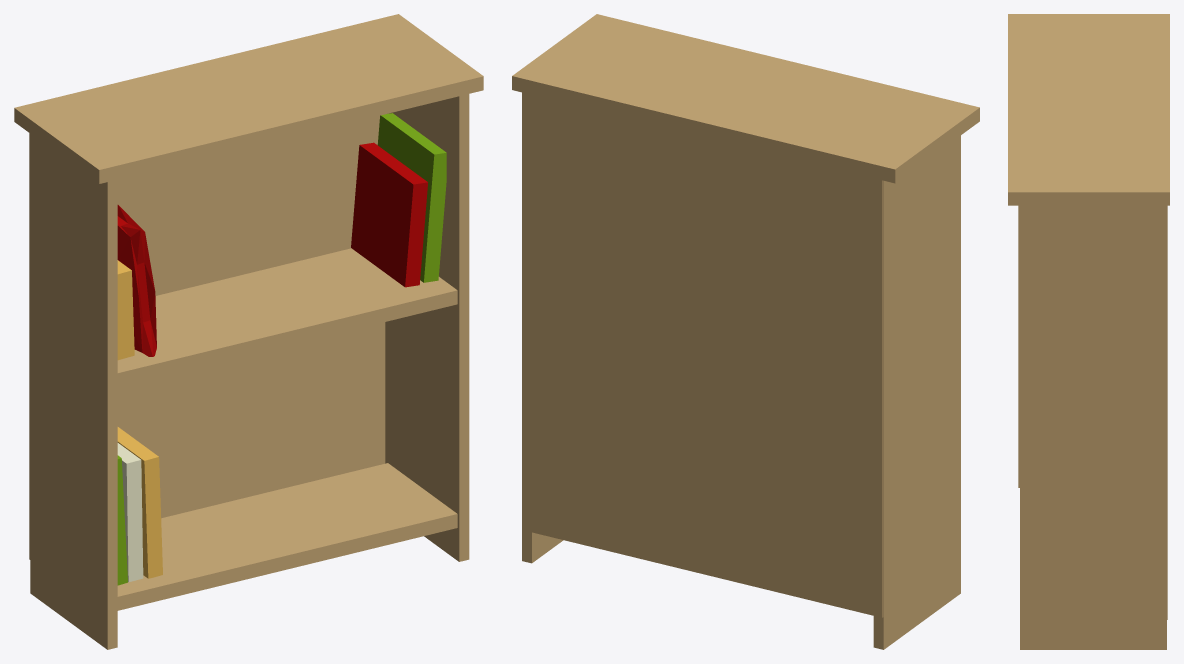
File: sweethome3d-contributions-small-bookshelves-184.glb
The picture shows the model from 3 angles, left to right: view 1: azimuth 30°, elevation 25°; view 2: azimuth 150°, elevation 25°; view 3: azimuth 270°, elevation 25°; orthographic projection. The views are drawn at different scales.
Parts seen in each view (by area): view 1: back, left_side, top, bottom_shelf, right_side, middle_shelf, red_book, green_book_2, red_book_2, orange_book, white_book, orange_book_2 (+1 smaller); view 2: back, top, left_side, right_side; view 3: right_side, top, left_side, back.
Boxes of the visible parts, <box> form: back: <box>29,115,385,559</box>; left_side: <box>30,134,117,649</box>; top: <box>14,14,483,183</box>; bottom_shelf: <box>117,463,457,610</box>; right_side: <box>385,94,469,561</box>; middle_shelf: <box>117,248,457,386</box>; red_book: <box>351,142,427,287</box>; green_book_2: <box>377,113,446,282</box>; red_book_2: <box>117,205,156,356</box>; orange_book: <box>117,427,162,578</box>; white_book: <box>117,443,143,582</box>; orange_book_2: <box>117,260,134,360</box>; back: <box>522,92,883,617</box>; top: <box>512,14,979,183</box>; left_side: <box>873,135,960,649</box>; right_side: <box>522,530,563,563</box>; right_side: <box>1020,205,1166,649</box>; top: <box>1008,14,1169,205</box>; left_side: <box>1018,205,1019,487</box>; back: <box>1167,205,1167,619</box>.
Bounding box in the file's own units: 2.87 × 3.48 × 1.1.
